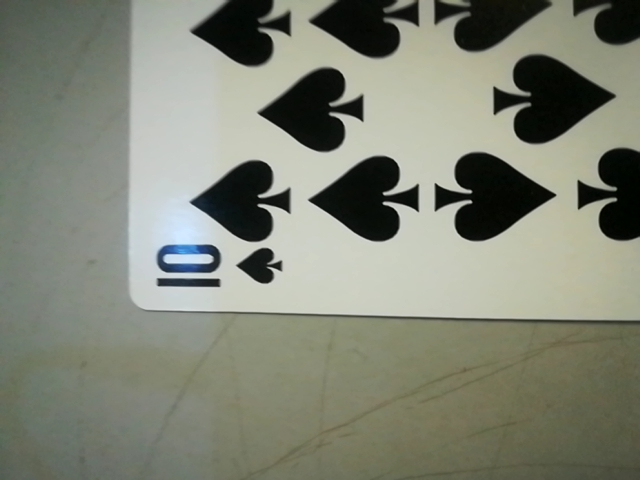ht 10: (139, 222, 299, 305)
